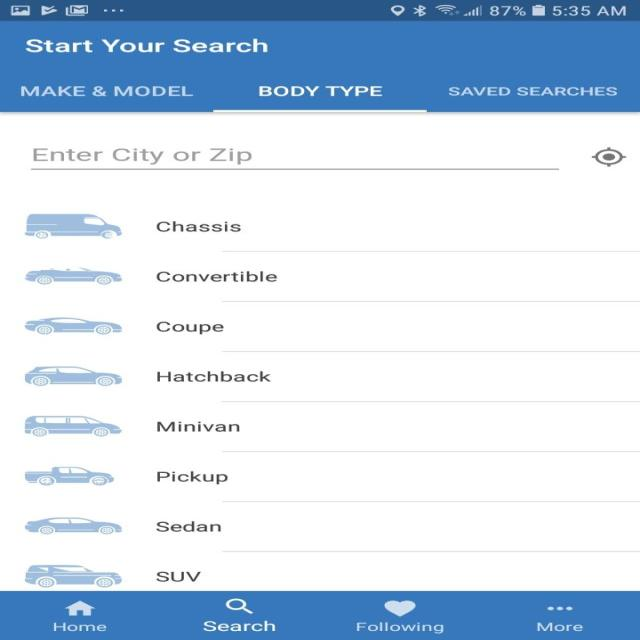EditText: (30, 148, 558, 170)
Icon: (590, 146, 626, 166), (64, 599, 96, 616), (383, 600, 416, 616), (224, 597, 254, 614), (546, 606, 572, 610)
Image: (25, 213, 123, 240), (24, 564, 122, 588), (25, 415, 123, 436), (24, 365, 122, 386), (24, 466, 114, 486), (25, 517, 123, 535), (25, 316, 123, 334), (24, 266, 122, 284)
Text: (32, 148, 252, 164), (24, 39, 268, 53), (20, 85, 194, 96), (447, 86, 617, 96), (156, 270, 278, 282), (258, 85, 382, 96), (156, 371, 272, 382), (356, 621, 444, 634), (155, 220, 241, 232), (156, 470, 228, 484), (202, 619, 276, 632), (156, 321, 224, 335), (156, 421, 240, 432), (156, 520, 222, 532), (155, 570, 201, 582), (52, 622, 106, 632), (536, 621, 583, 631)
